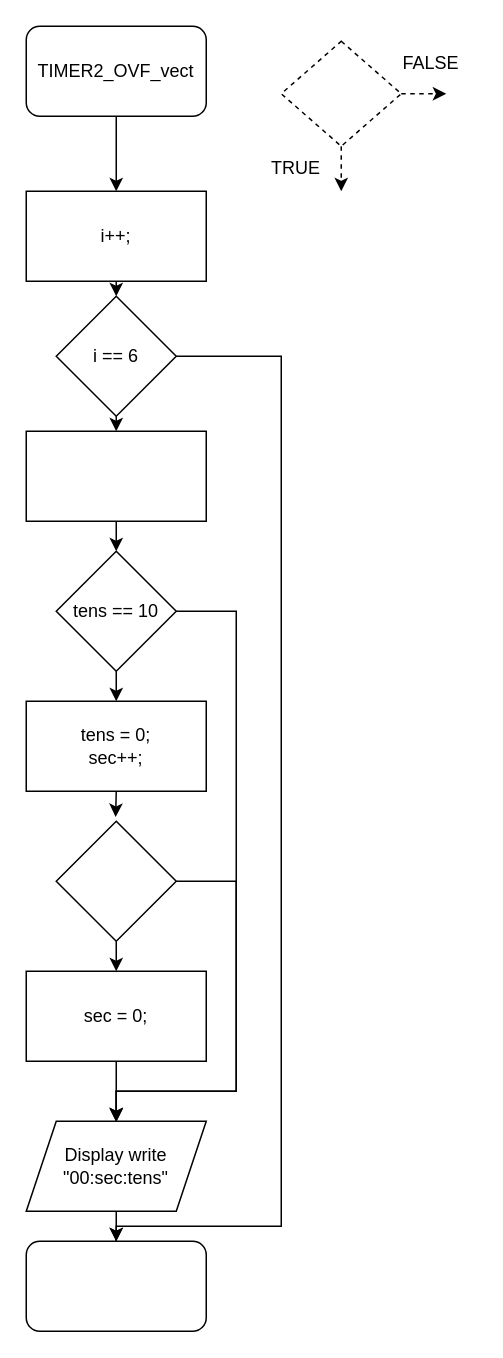
Some shapes in this 503 by 1358 pixel diagram are drawn without their labels. The shapes that lost their labels are listed below. From the top down, each one's centre as x and y in pixels, then its label:
At [115,475]: "i = 0; tens++;".
At [115,880]: "sec == 60".
At [115,1285]: "reti;".
